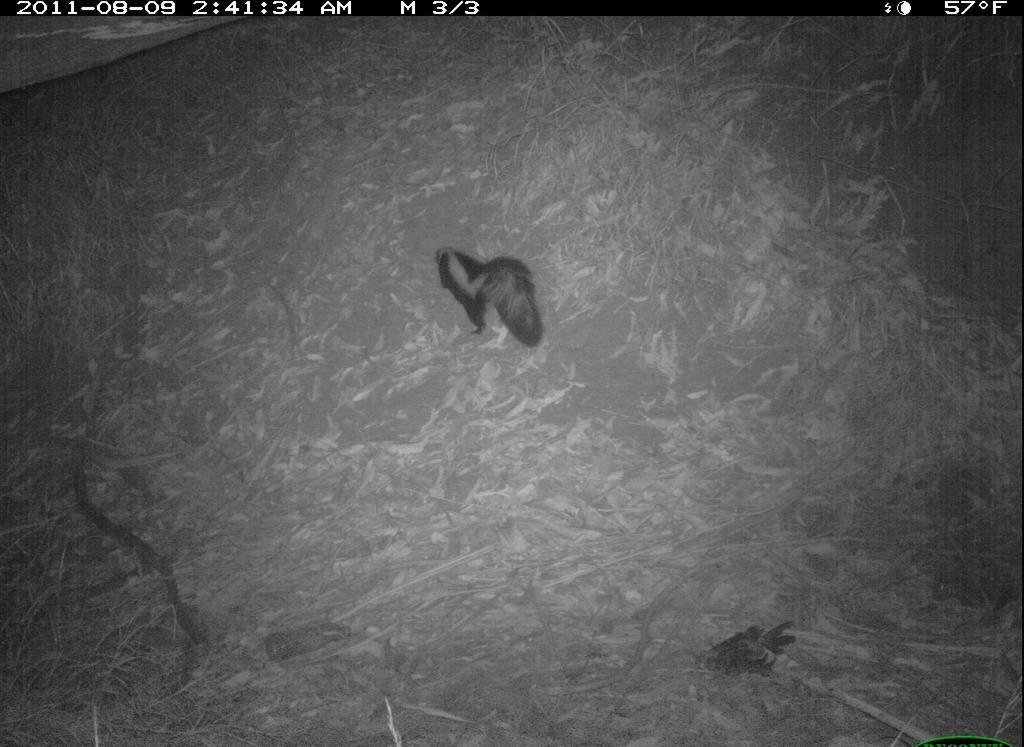skunk: (406, 207, 548, 367)
